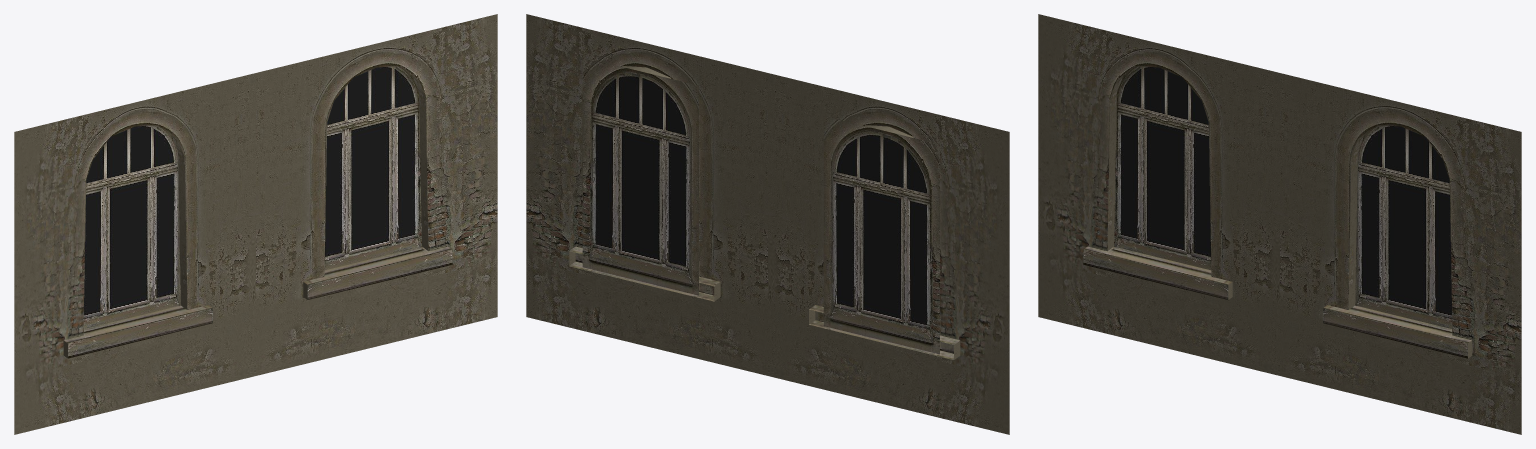
The model's file is doppelfenster_r.obj.
3 renders of one model, left to right at view 1: azimuth 30°, elevation 25°; view 2: azimuth 150°, elevation 25°; view 3: azimuth 330°, elevation 25°, orthographic.
Visible parts, largest first — view 1: polySurface164; view 2: polySurface164; view 3: polySurface164.
Boxes of the visible parts, x1,y1,x2,y2 form: polySurface164: (14,14,497,434); polySurface164: (526,14,1009,434); polySurface164: (1038,14,1521,434).
Bounding box in the file's own units: 2 × 1.2 × 0.0778.
1 material, 1 textured.
